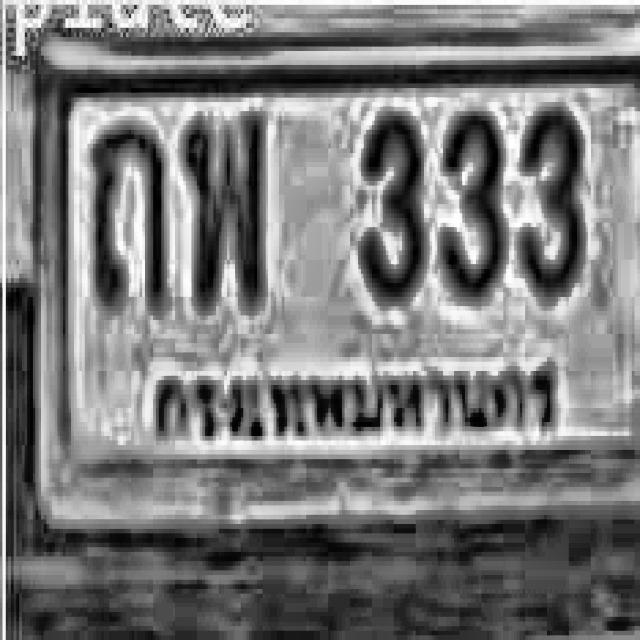license-plate: (32, 28, 640, 561)
